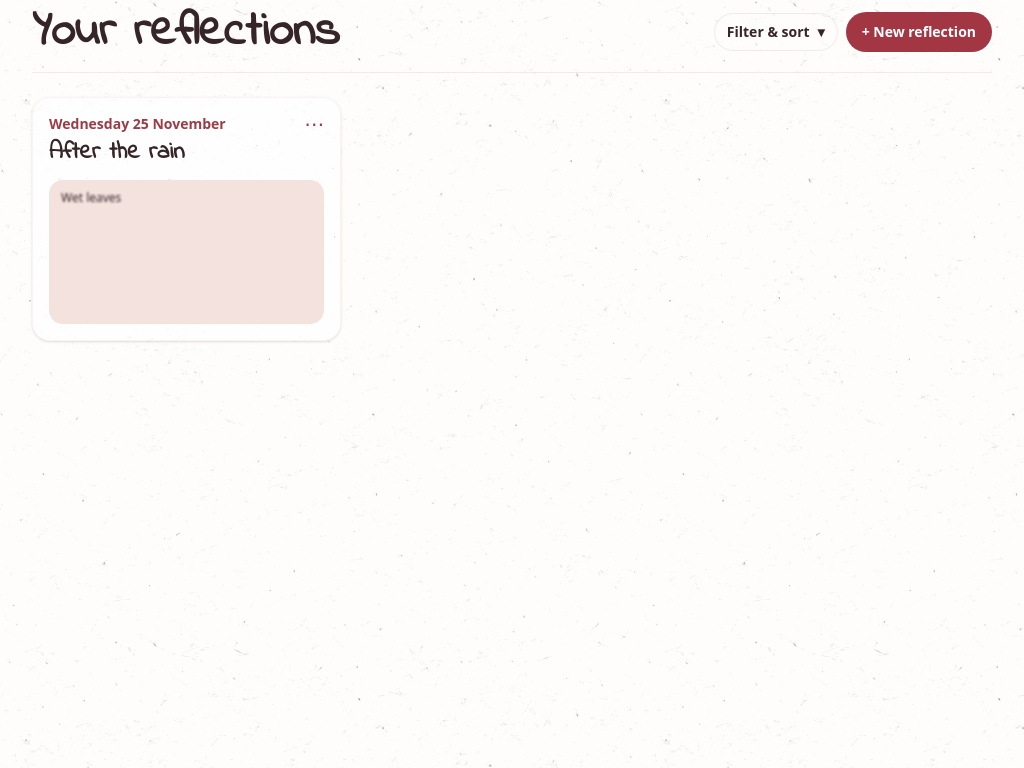
it: reflection deletion › keeps the reflection when confirmation is cancelled
Step 1. Click the heading named "Actions for After the rain" → (314, 124), box [304,110,324,137]
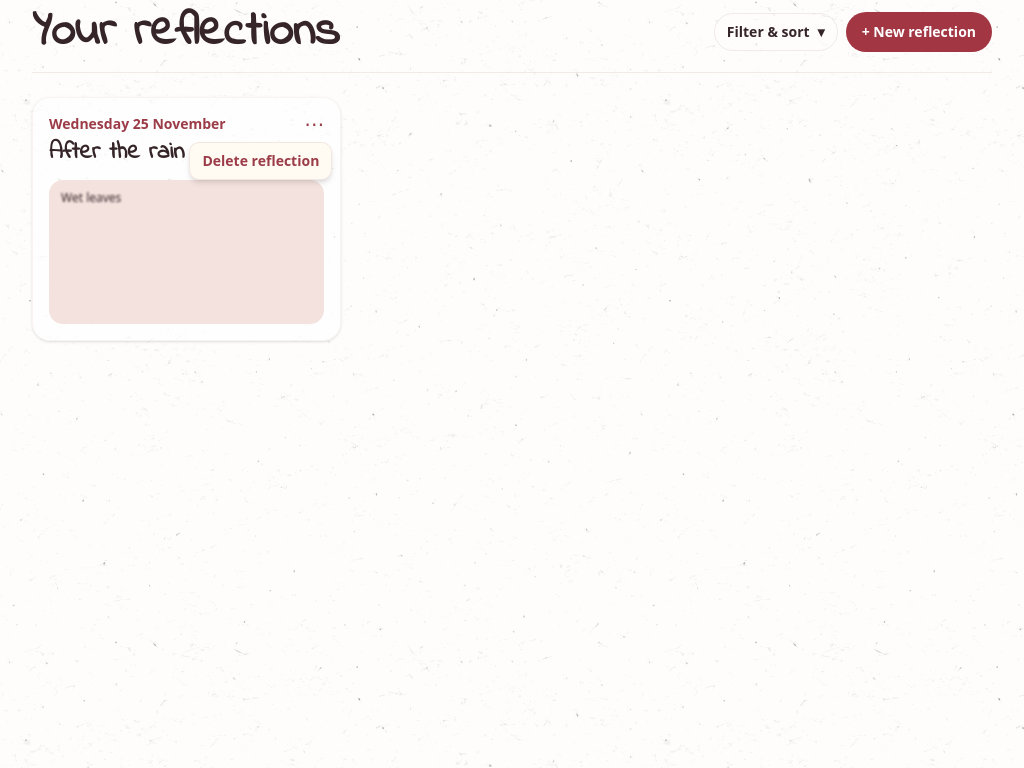
Step 2. Click the button "Delete reflection" → (261, 161), box [189,142,332,180]
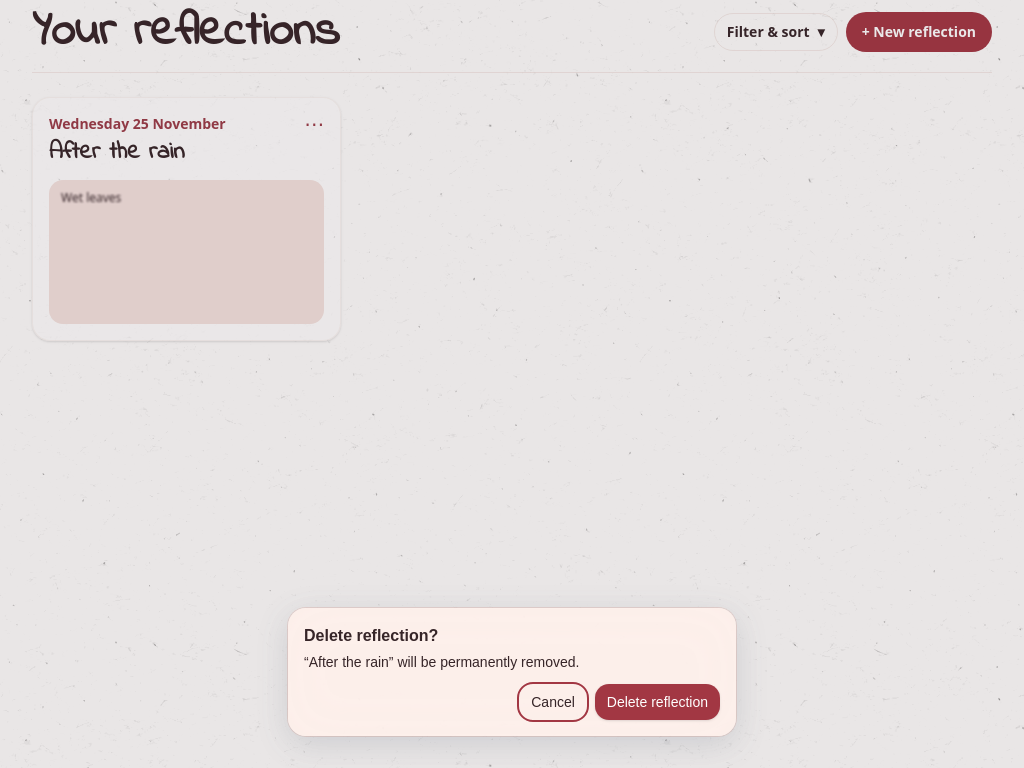
Step 3. Click the button "Cancel" → (553, 702), box [519,684,587,720]
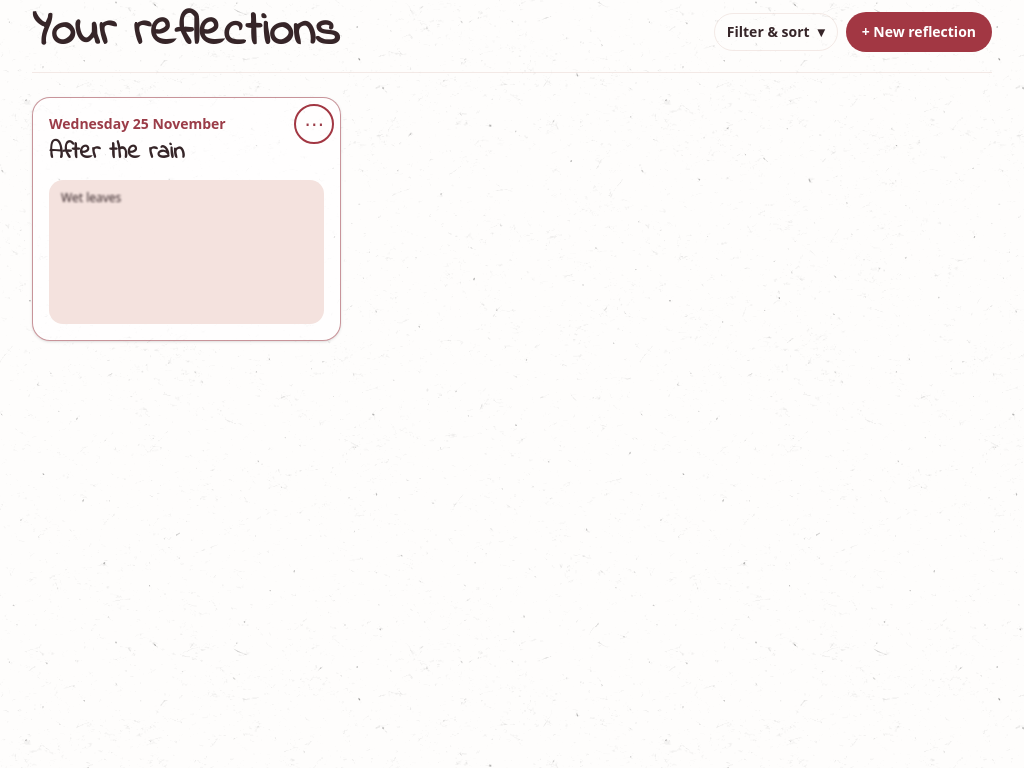
expect the link "Wednesday 25 November After the rain Wet leaves" is shown: met, box [33,98,340,340]
expect the dialog is gone: met
